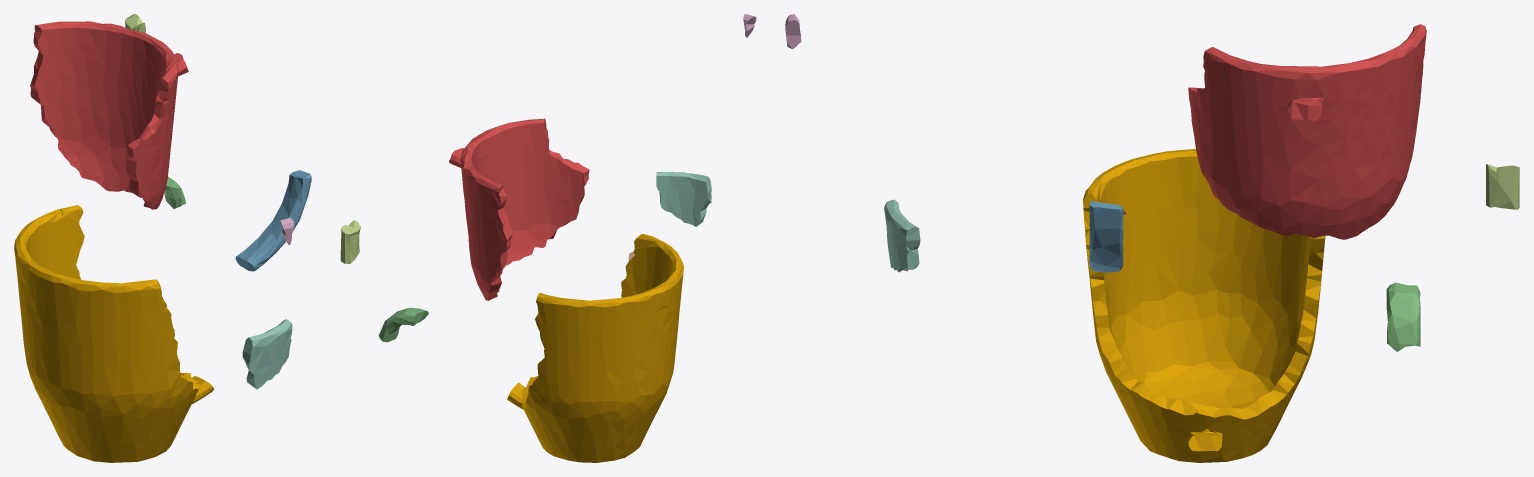
Rendered from fractured_62_8pcs_transformed.glb.
The picture shows the model from 3 angles, left to right: view 1: azimuth 30°, elevation 25°; view 2: azimuth 150°, elevation 25°; view 3: azimuth 270°, elevation 25°; orthographic projection. The views are drawn at different scales.
Visible parts, largest first — view 1: piece_0.obj, piece_1.obj, piece_2.obj, piece_4.obj, piece_3.obj; view 2: piece_0.obj, piece_1.obj, piece_4.obj, piece_3.obj, piece_5.obj; view 3: piece_0.obj, piece_1.obj, piece_2.obj, piece_3.obj, piece_4.obj, piece_5.obj.
Part boxes in pixels (left/top/right/bottom): piece_0.obj: left=14, top=205, right=213, bottom=462; piece_1.obj: left=30, top=21, right=188, bottom=209; piece_2.obj: left=235, top=170, right=311, bottom=271; piece_4.obj: left=242, top=319, right=292, bottom=389; piece_3.obj: left=164, top=176, right=185, bottom=208; piece_0.obj: left=507, top=234, right=683, bottom=462; piece_1.obj: left=449, top=118, right=589, bottom=300; piece_4.obj: left=656, top=172, right=711, bottom=226; piece_3.obj: left=378, top=307, right=428, bottom=342; piece_5.obj: left=340, top=220, right=360, bottom=263; piece_0.obj: left=1083, top=149, right=1325, bottom=462; piece_1.obj: left=1188, top=24, right=1426, bottom=239; piece_2.obj: left=1089, top=201, right=1123, bottom=272; piece_3.obj: left=1386, top=282, right=1420, bottom=351; piece_4.obj: left=884, top=199, right=920, bottom=272; piece_5.obj: left=1486, top=164, right=1519, bottom=209.
Size of the model in its own units: 1 by 1.4 by 2.22.
